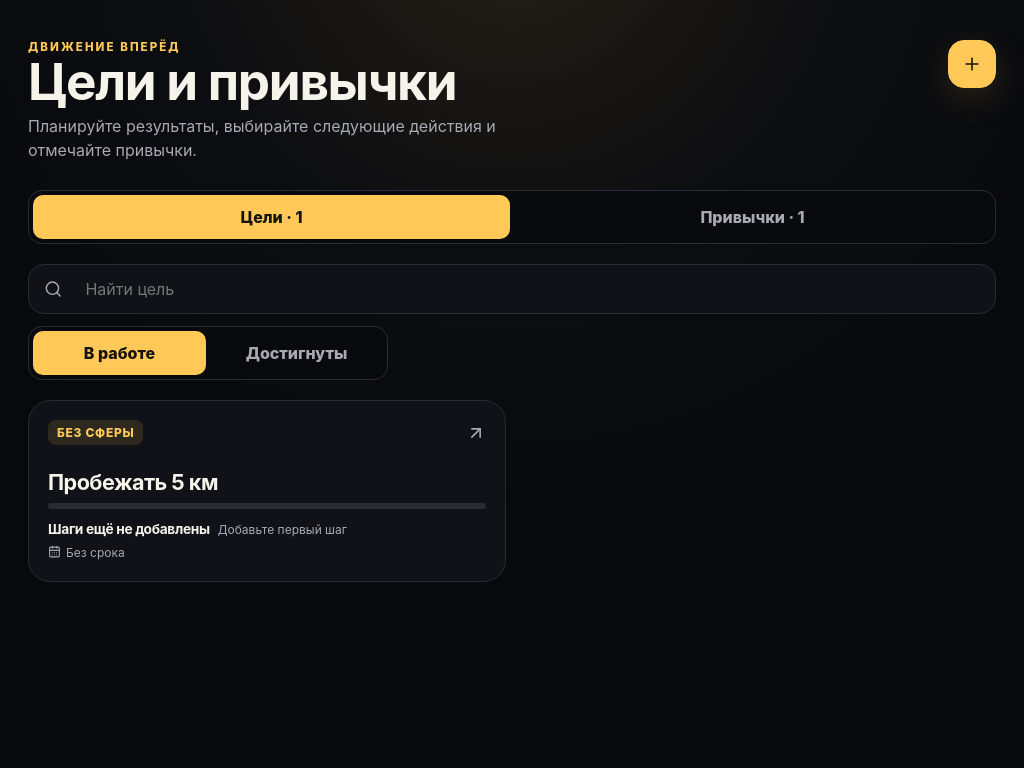
it: combined progress page › keeps goals and habits in one section without duplicating training navigation
Expected: the heading "Цели и привычки" is shown, x1=28 y1=50 x2=456 y2=112
Expected: the heading "Пробежать 5 км" is shown, x1=48 y1=469 x2=218 y2=495
Click the button "Привычки · 1" at (752, 217), box x1=514 y1=195 x2=991 y2=239
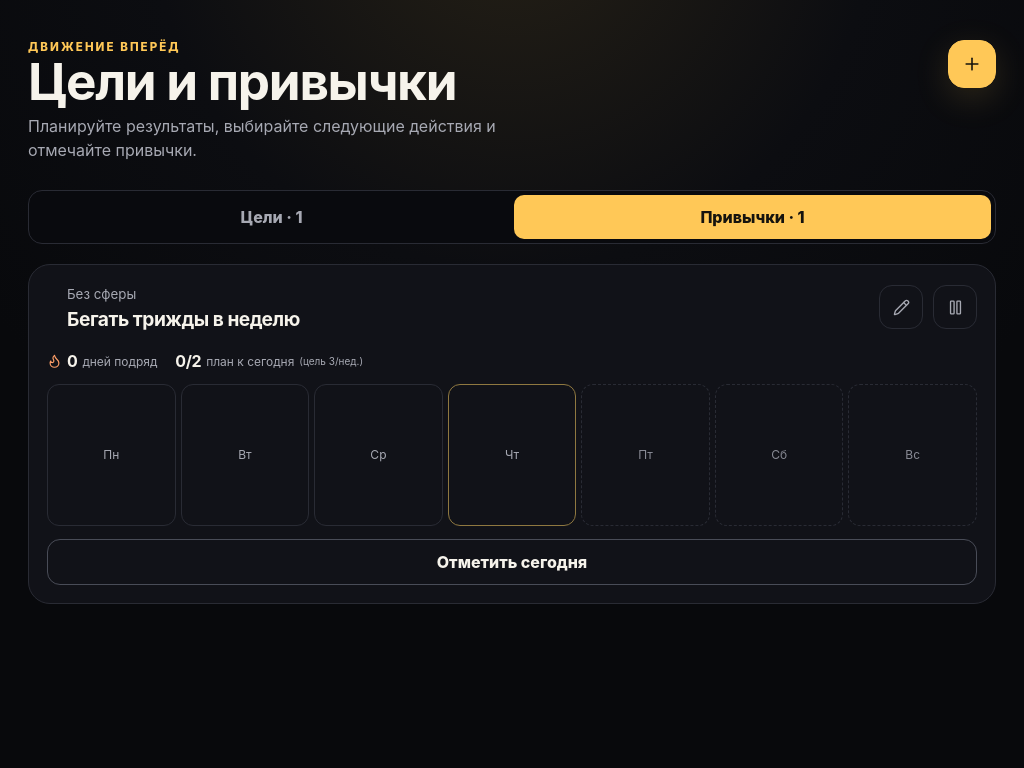
Expected: the button named "Добавить привычку" is shown, x1=948 y1=40 x2=996 y2=88
Expected: the heading "Бегать трижды в неделю" is shown, x1=67 y1=307 x2=300 y2=331
